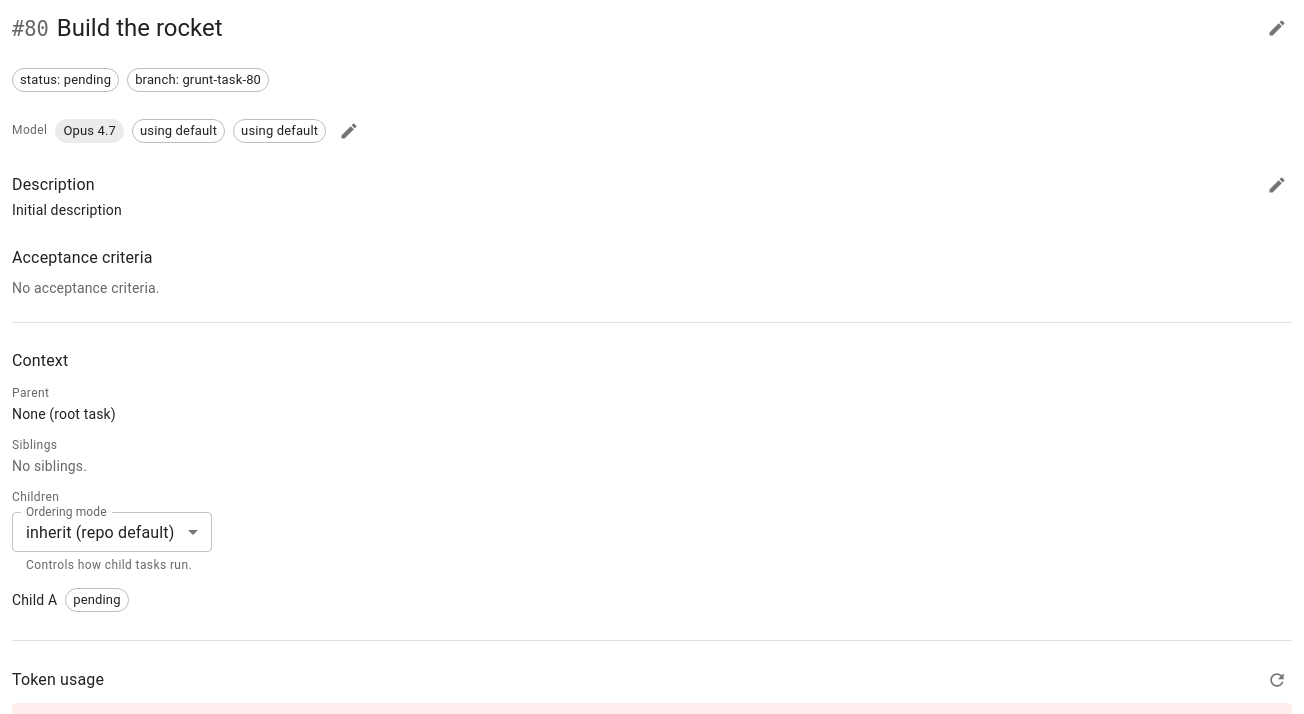
Test case: TaskDetailPage › PATCHes ordering_mode when the override is changed to a concrete value
The width and height of the screenshot is (1304, 714).
Expected: the element with test id "task-detail-ordering-mode" is shown, [12,505,212,572]
Step 1. Click the dropdown named "Ordering mode" → (100, 532), box [26,523,174,542]
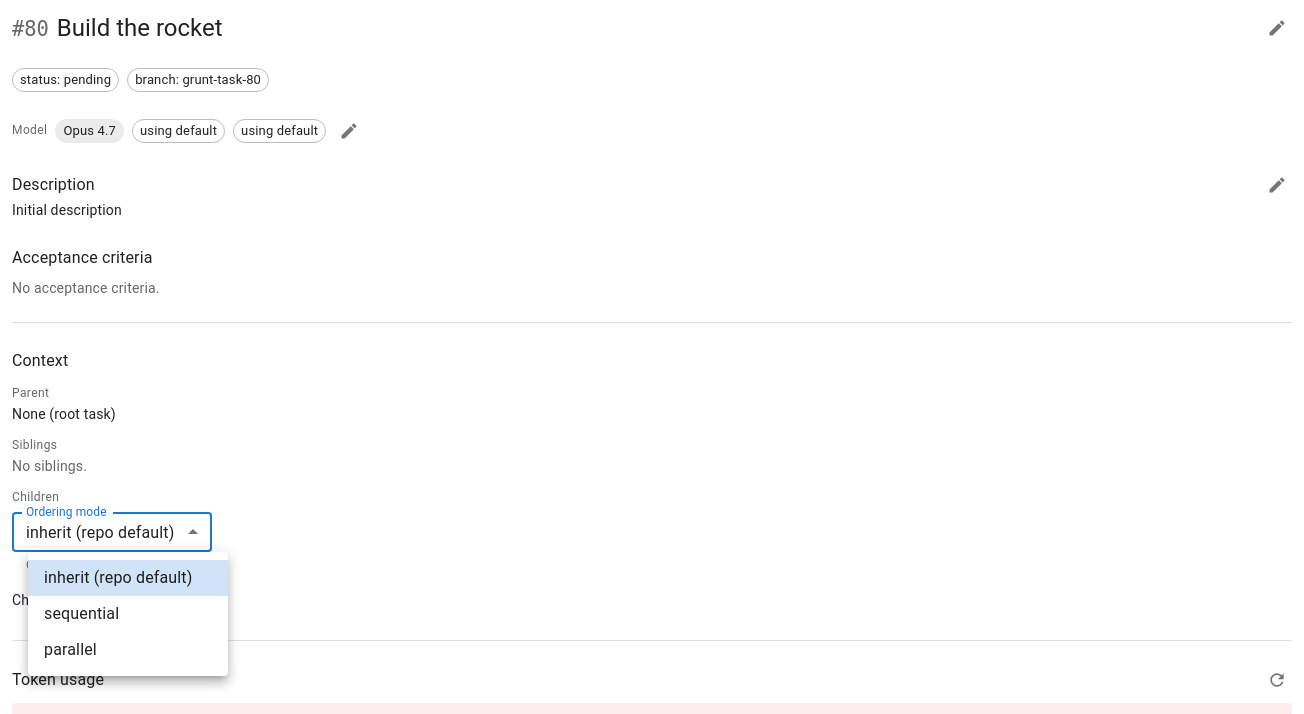
Step 2. Click the option "parallel" → (70, 650), box [44,640,97,659]
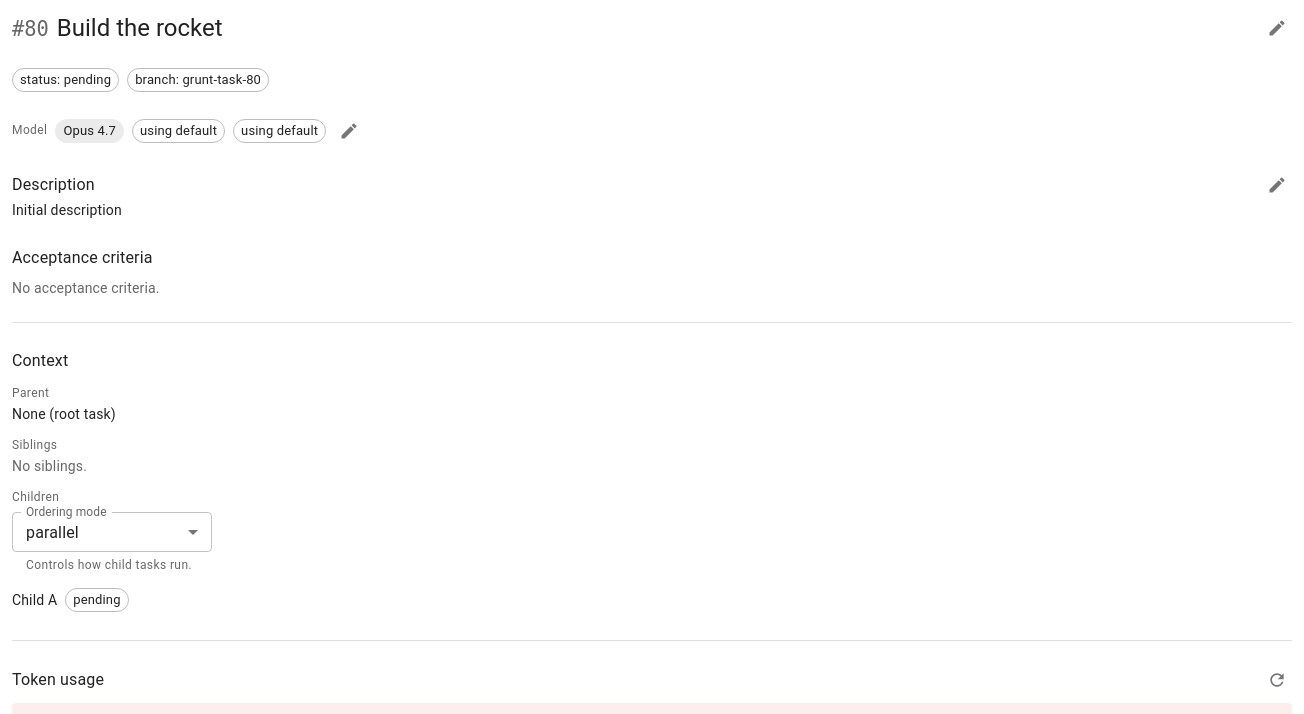
Expected: the dropdown "parallel" is shown, [26,523,79,542]
